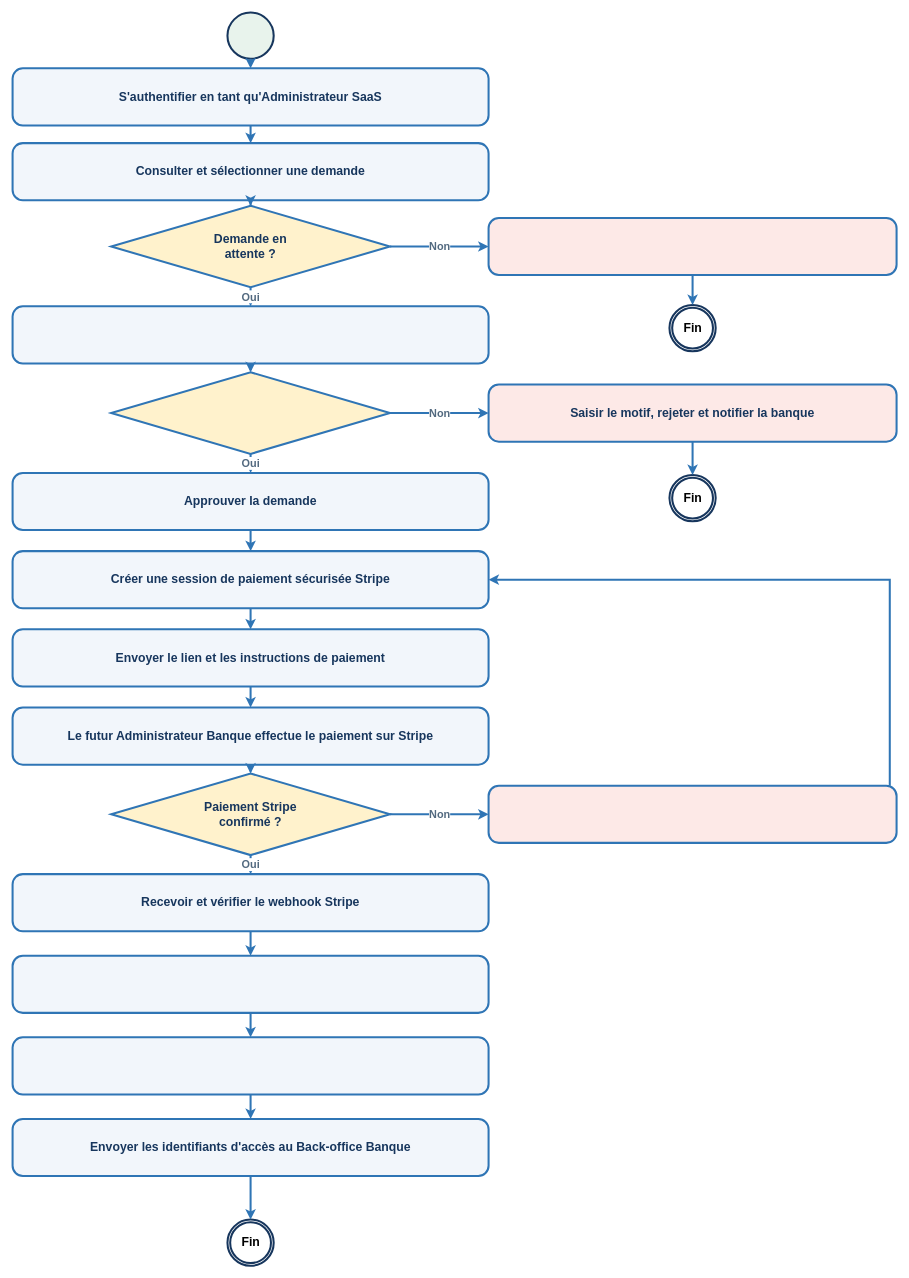
This 909x1278 diagram has some shape labels left out. The shapes that lost their labels are listed below. From the top down, each one's centre as x and y in pixels, then its label:
the point at 250,35: Début
the point at 692,246: Signaler que la demande ne peut plus être traitée
the point at 250,334: Vérifier les informations, les documents et la configuration
the point at 250,413: Demande admissible ?
the point at 692,814: Signaler l'échec ou l'expiration et proposer un nouvel essai
the point at 250,984: Activer la banque, la marketplace et l'abonnement
the point at 250,1065: Activer le compte Administrateur Banque
